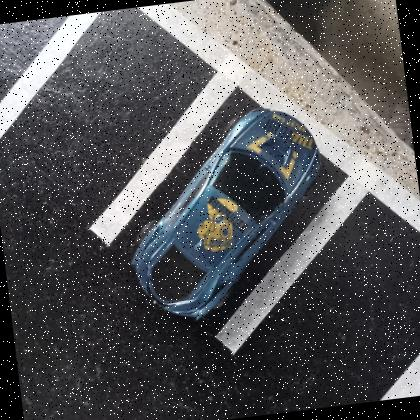Car: (130, 107, 323, 321)
